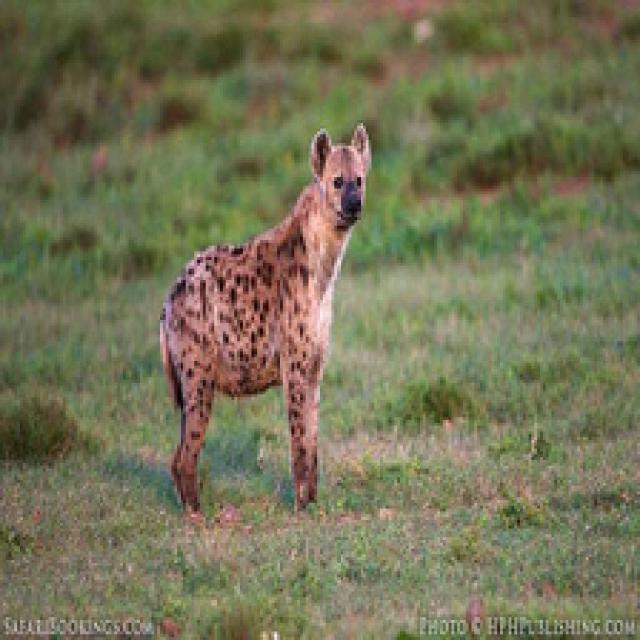hyena: (156, 123, 368, 496)
